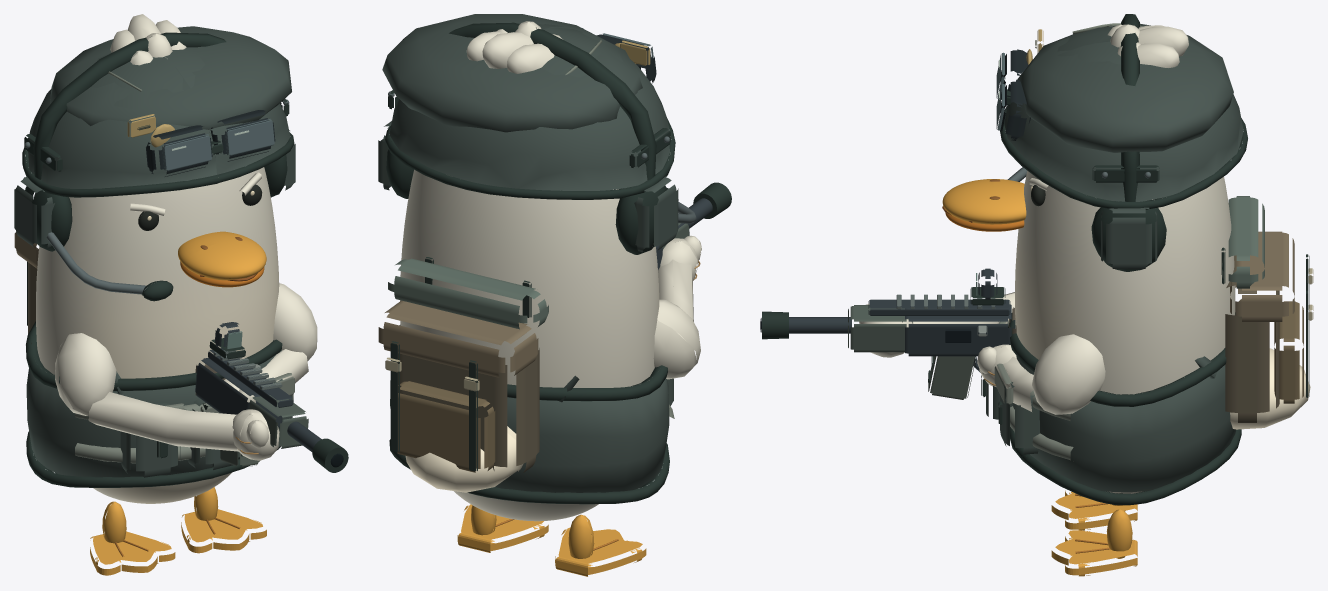
The model's file is goose-original.glb.
3 views of the same model, side by side, from view 1: azimuth 30°, elevation 25°; view 2: azimuth 150°, elevation 25°; view 3: azimuth 270°, elevation 25° (orthographic). The views are drawn at different scales.
Visible parts, largest first — view 1: goose_torso_mesh, goose_helmet_mesh, goose_weapon_mesh, goose_vest_mesh, goose_beret_mesh, goose_headset_mesh, goose_goggles_mesh, goose_beak_mesh, goose_leftArm_mesh, goose_leftFoot_mesh, goose_rightFoot_mesh, goose_rightArm_mesh (+4 smaller); view 2: goose_torso_mesh, goose_pack_mesh, goose_helmet_mesh, goose_vest_mesh, goose_beret_mesh, goose_headset_mesh, goose_weapon_mesh, goose_leftFoot_mesh, goose_tail_mesh, goose_leftArm_mesh, goose_crestSwept_mesh, goose_rightFoot_mesh (+1 smaller); view 3: goose_torso_mesh, goose_vest_mesh, goose_beret_mesh, goose_weapon_mesh, goose_helmet_mesh, goose_pack_mesh, goose_headset_mesh, goose_rightArm_mesh, goose_beak_mesh, goose_rightFoot_mesh, goose_goggles_mesh, goose_crestSwept_mesh (+3 smaller).
Boxes of the visible parts, bbox=[...] form: goose_torso_mesh: bbox=[36, 167, 279, 503]; goose_helmet_mesh: bbox=[22, 47, 294, 197]; goose_weapon_mesh: bbox=[88, 322, 348, 472]; goose_vest_mesh: bbox=[26, 321, 294, 487]; goose_beret_mesh: bbox=[50, 26, 291, 147]; goose_headset_mesh: bbox=[14, 32, 295, 301]; goose_goggles_mesh: bbox=[146, 110, 275, 176]; goose_beak_mesh: bbox=[178, 231, 266, 287]; goose_leftArm_mesh: bbox=[55, 333, 116, 415]; goose_leftFoot_mesh: bbox=[90, 501, 175, 575]; goose_rightFoot_mesh: bbox=[181, 487, 266, 553]; goose_rightArm_mesh: bbox=[273, 283, 317, 361]; goose_torso_mesh: bbox=[400, 169, 659, 521]; goose_pack_mesh: bbox=[378, 257, 548, 472]; goose_helmet_mesh: bbox=[385, 23, 675, 199]; goose_vest_mesh: bbox=[389, 325, 673, 504]; goose_beret_mesh: bbox=[382, 14, 642, 132]; goose_headset_mesh: bbox=[378, 22, 696, 254]; goose_weapon_mesh: bbox=[656, 182, 731, 340]; goose_leftFoot_mesh: bbox=[555, 514, 646, 576]; goose_tail_mesh: bbox=[405, 426, 523, 492]; goose_leftArm_mesh: bbox=[653, 299, 700, 379]; goose_crestSwept_mesh: bbox=[466, 31, 554, 73]; goose_rightFoot_mesh: bbox=[457, 504, 548, 552]; goose_torso_mesh: bbox=[1015, 171, 1235, 493]; goose_vest_mesh: bbox=[981, 312, 1241, 505]; goose_beret_mesh: bbox=[1019, 23, 1233, 152]; goose_weapon_mesh: bbox=[760, 268, 1033, 411]; goose_helmet_mesh: bbox=[1000, 23, 1247, 209]; goose_pack_mesh: bbox=[1221, 196, 1313, 422]; goose_headset_mesh: bbox=[1007, 14, 1166, 271]; goose_rightArm_mesh: bbox=[1032, 334, 1105, 414]; goose_beak_mesh: bbox=[942, 179, 1026, 231]; goose_rightFoot_mesh: bbox=[1051, 509, 1137, 576]; goose_goggles_mesh: bbox=[996, 49, 1030, 140]; goose_crestSwept_mesh: bbox=[1137, 25, 1188, 67].
Size of the model in its own units: 1.15 by 2.1 by 2.06.
